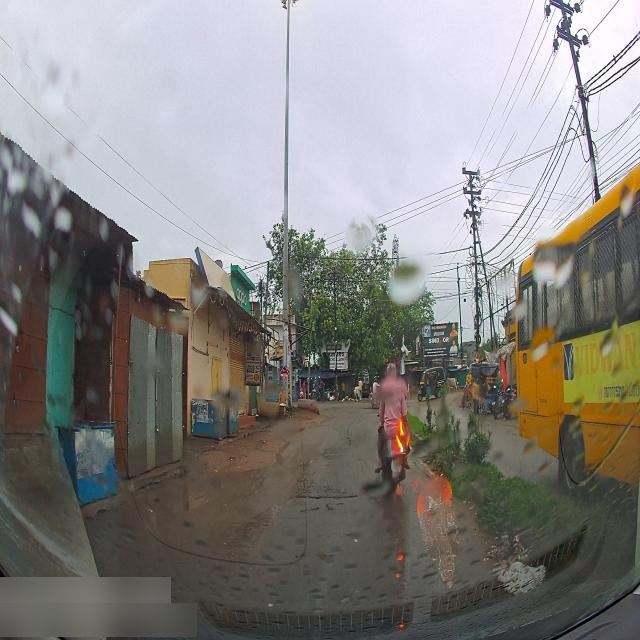pothole: (293, 484, 364, 512)
